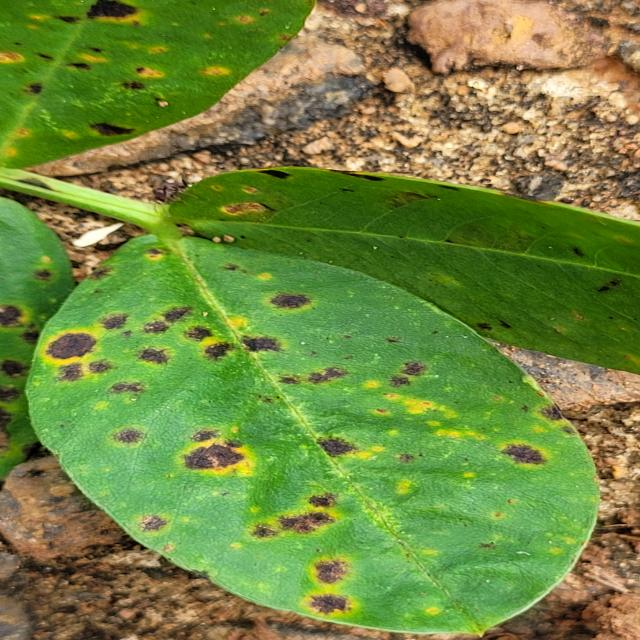Ground nut_tikka leaf spot: (23, 237, 603, 640)
